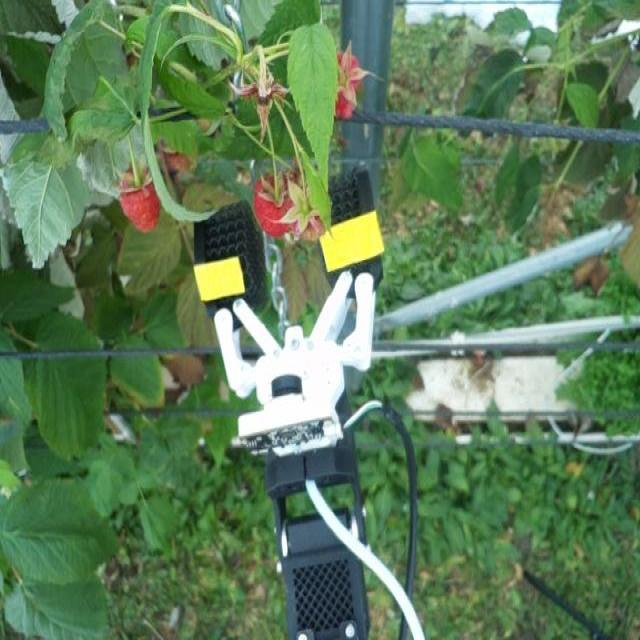Riped berries: (257, 169, 305, 236), (119, 165, 165, 228), (328, 45, 364, 118)
